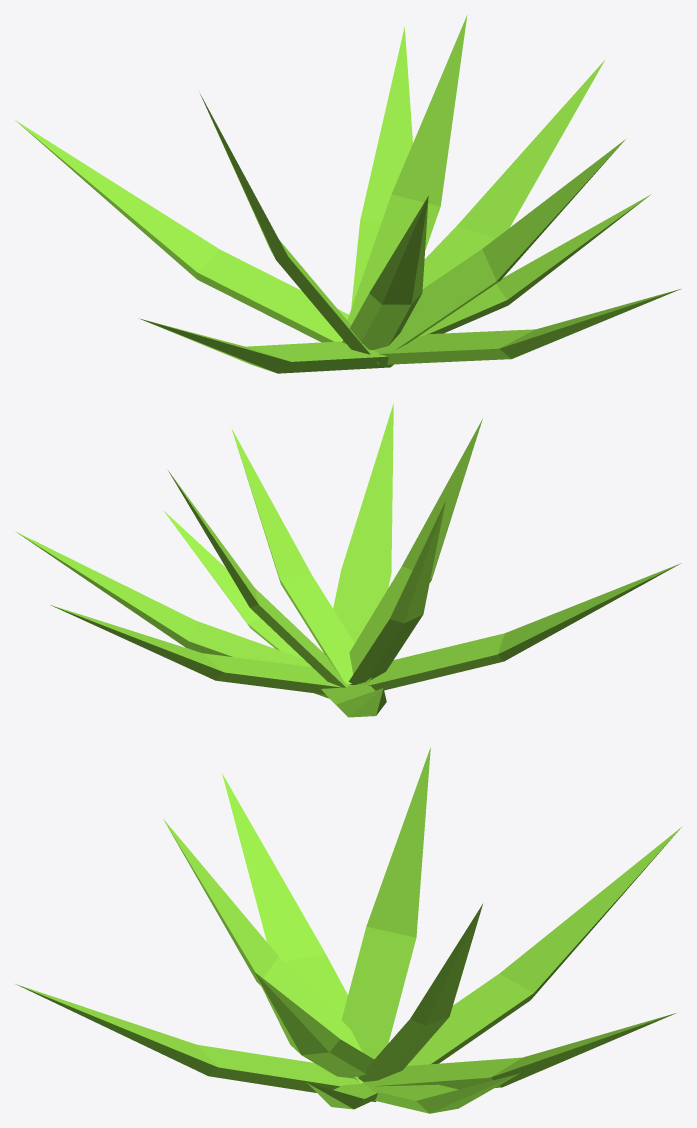
The model's file is Grass_38.fbx.
The picture shows the model from 3 angles, top to bottom: view 1: azimuth 30°, elevation 25°; view 2: azimuth 150°, elevation 25°; view 3: azimuth 270°, elevation 25°; orthographic projection. The views are drawn at different scales.
Visible parts, largest first — view 1: Grass_38; view 2: Grass_38; view 3: Grass_38.
Boxes of the visible parts, x1,y1,x2,y2 form: Grass_38: [15, 15, 680, 373]; Grass_38: [15, 403, 681, 717]; Grass_38: [15, 746, 681, 1113].
Bounding box in the file's own units: 108 × 47.06 × 103.
